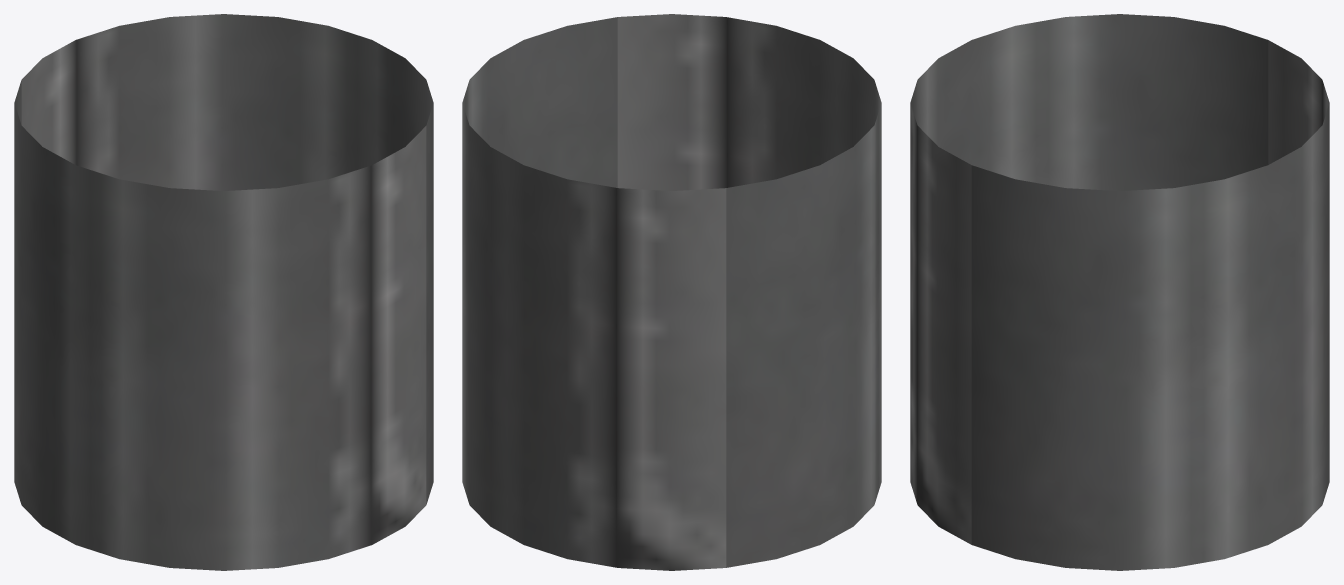
Rendered from black_knight_fuel_tank_s0_1.obj.
3 renders of one model, left to right at view 1: azimuth 30°, elevation 25°; view 2: azimuth 150°, elevation 25°; view 3: azimuth 270°, elevation 25°, orthographic.
Visible parts, largest first — view 1: mesh1; view 2: mesh1; view 3: mesh1.
Boxes of the visible parts, bbox=[...] form: mesh1: bbox=[14, 14, 433, 570]; mesh1: bbox=[462, 14, 881, 570]; mesh1: bbox=[910, 14, 1329, 570].
Bounding box in the file's own units: 0.625 × 0.625 × 0.625.
